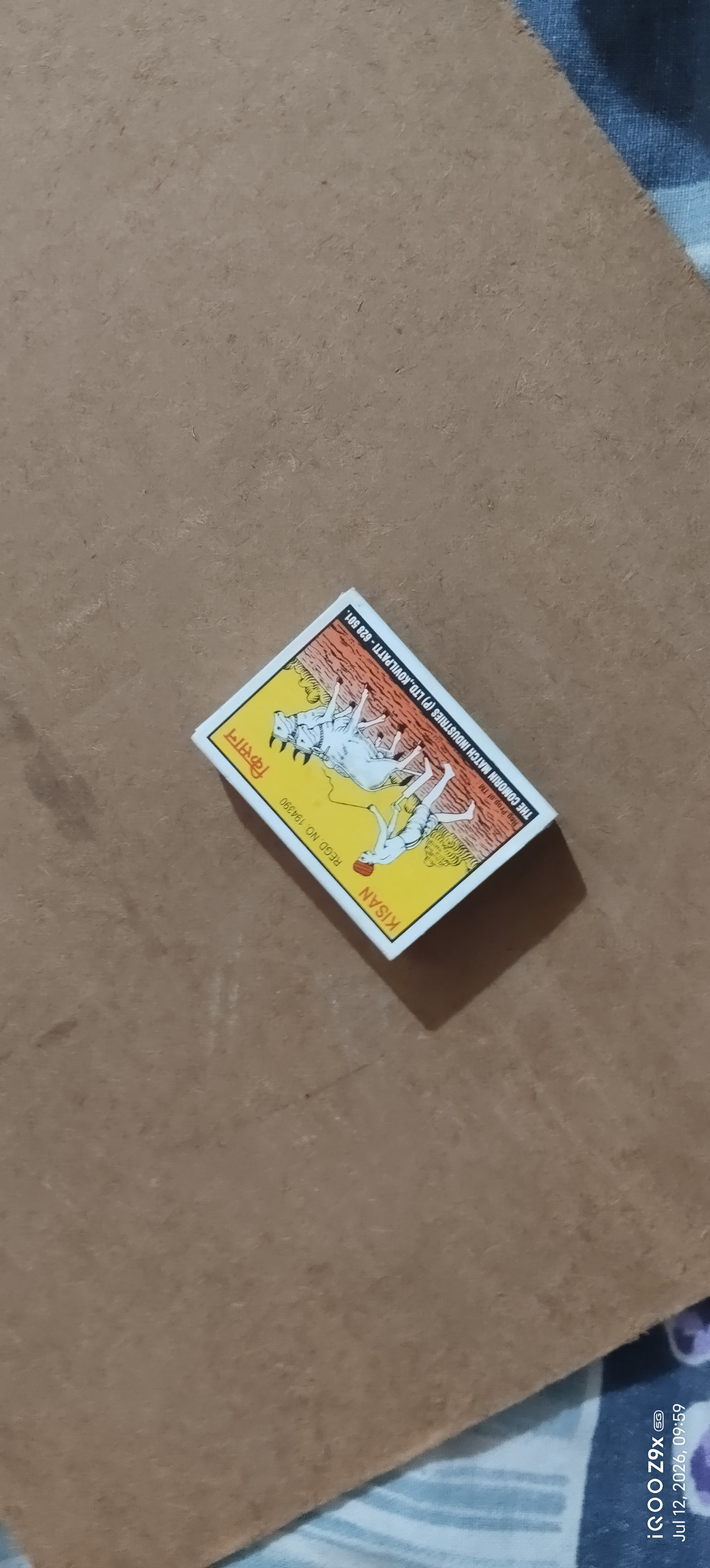matchbox: (179, 577, 581, 973)
